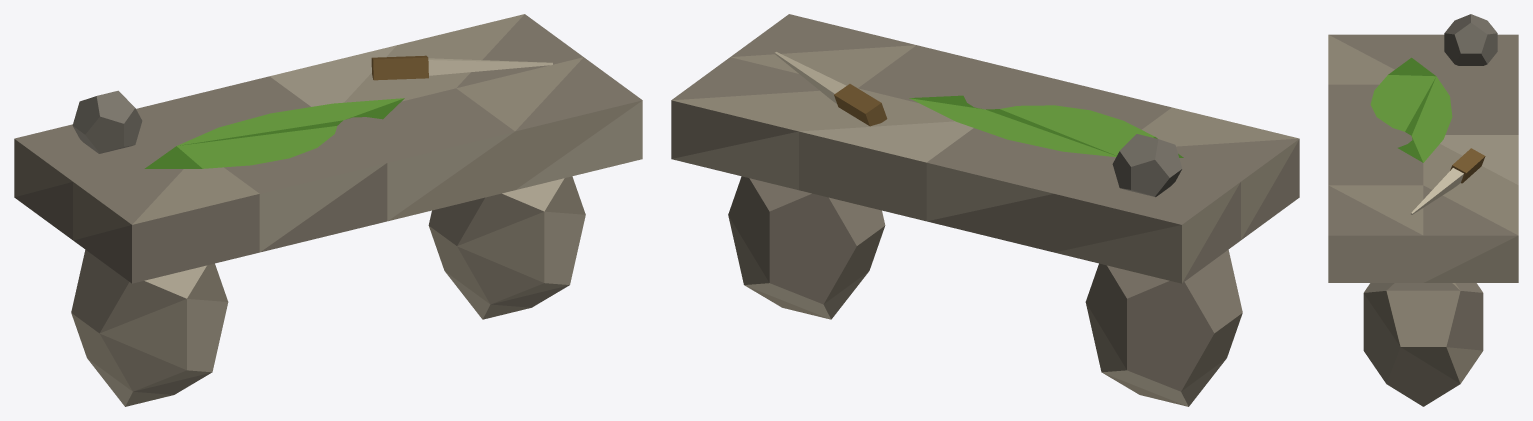
File: nest-bench.glb
3 renders of one model, left to right at view 1: azimuth 30°, elevation 25°; view 2: azimuth 150°, elevation 25°; view 3: azimuth 270°, elevation 25°, orthographic. The views are drawn at different scales.
Size of the model in its own units: 2 by 1.08 by 0.8.
